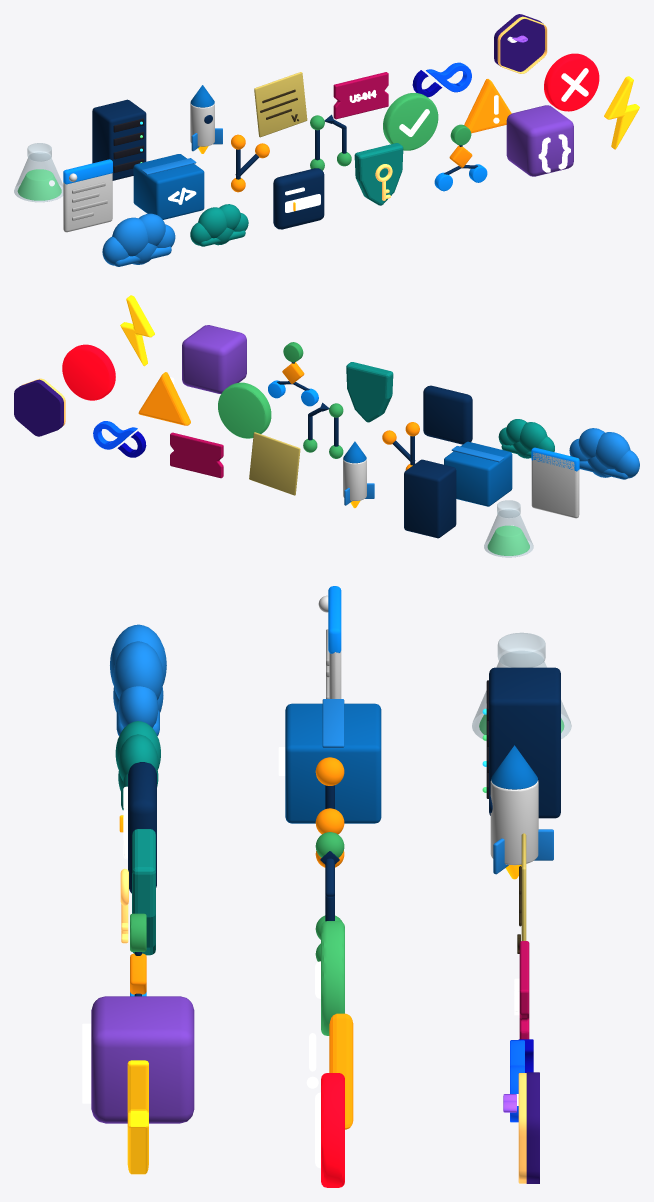
Rendered from salesforce.glb.
The picture shows the model from 3 angles, top to bottom: view 1: azimuth 30°, elevation 25°; view 2: azimuth 150°, elevation 25°; view 3: azimuth 270°, elevation 25°; orthographic projection. The views are drawn at different scales.
Parts seen in each view (by area): view 1: apex, package-xml, ci-runner, record, org-cloud, custom-field, note, sfdx-hardis-badge, check-fail, check-pass, permission-set, apex-test (+9 smaller); view 2: apex, ci-runner, package-xml, record, org-cloud, custom-field, note, check-fail, sfdx-hardis-badge, check-pass, permission-set, apex-test (+9 smaller); view 3: apex, package-xml, ci-runner, rocket, org-cloud, check-fail, permission-set, sfdx-hardis-badge, check-pass, custom-field, lwc, check-warn (+9 smaller).
Part boxes in pixels (bbox=[...]): apex: bbox=[506, 105, 573, 176]; package-xml: bbox=[133, 154, 204, 219]; ci-runner: bbox=[92, 99, 146, 180]; record: bbox=[63, 159, 112, 232]; org-cloud: bbox=[102, 213, 175, 266]; custom-field: bbox=[273, 168, 324, 229]; note: bbox=[254, 72, 307, 137]; sfdx-hardis-badge: bbox=[494, 14, 547, 73]; check-fail: bbox=[544, 53, 599, 111]; check-pass: bbox=[383, 93, 438, 150]; permission-set: bbox=[354, 143, 403, 205]; apex-test: bbox=[14, 143, 63, 202]; apex: bbox=[182, 325, 246, 393]; ci-runner: bbox=[404, 459, 456, 538]; package-xml: bbox=[444, 441, 512, 506]; record: bbox=[531, 447, 579, 518]; org-cloud: bbox=[569, 428, 639, 479]; custom-field: bbox=[423, 385, 472, 444]; note: bbox=[249, 432, 300, 495]; check-fail: bbox=[62, 344, 115, 400]; sfdx-hardis-badge: bbox=[14, 378, 65, 436]; check-pass: bbox=[218, 382, 271, 438]; permission-set: bbox=[346, 362, 393, 422]; apex-test: bbox=[484, 500, 533, 557]; apex: bbox=[82, 996, 194, 1123]; package-xml: bbox=[278, 699, 381, 823]; ci-runner: bbox=[482, 667, 560, 818]; rocket: bbox=[489, 745, 553, 879]; org-cloud: bbox=[110, 624, 166, 735]; check-fail: bbox=[315, 1073, 344, 1187]; permission-set: bbox=[120, 829, 155, 955]; sfdx-hardis-badge: bbox=[503, 1072, 539, 1183]; check-pass: bbox=[315, 921, 344, 1035]; custom-field: bbox=[119, 762, 156, 893]; lwc: bbox=[127, 1060, 148, 1174]; check-warn: bbox=[306, 1013, 353, 1129].
Bounding box in the file's own units: 10.14 × 1.23 × 4.08.
